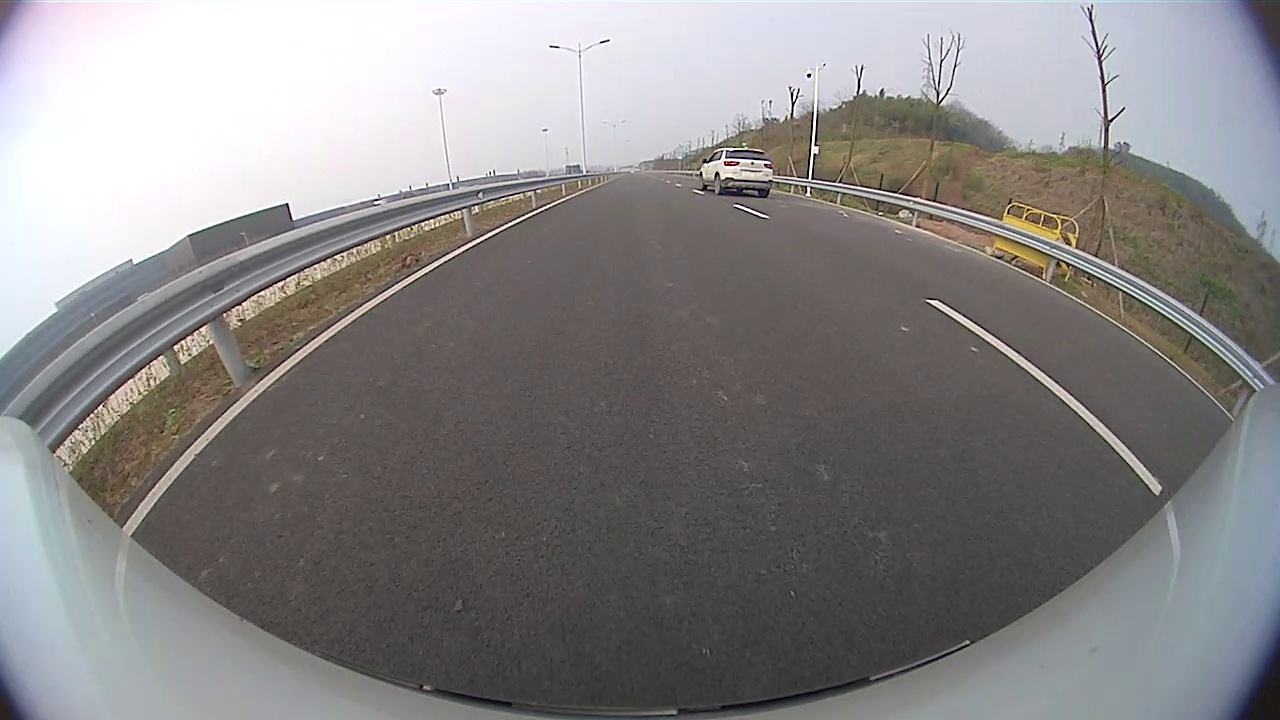car: (697, 147, 775, 198)
front: (696, 172, 707, 191)
rear: (712, 173, 725, 197)
